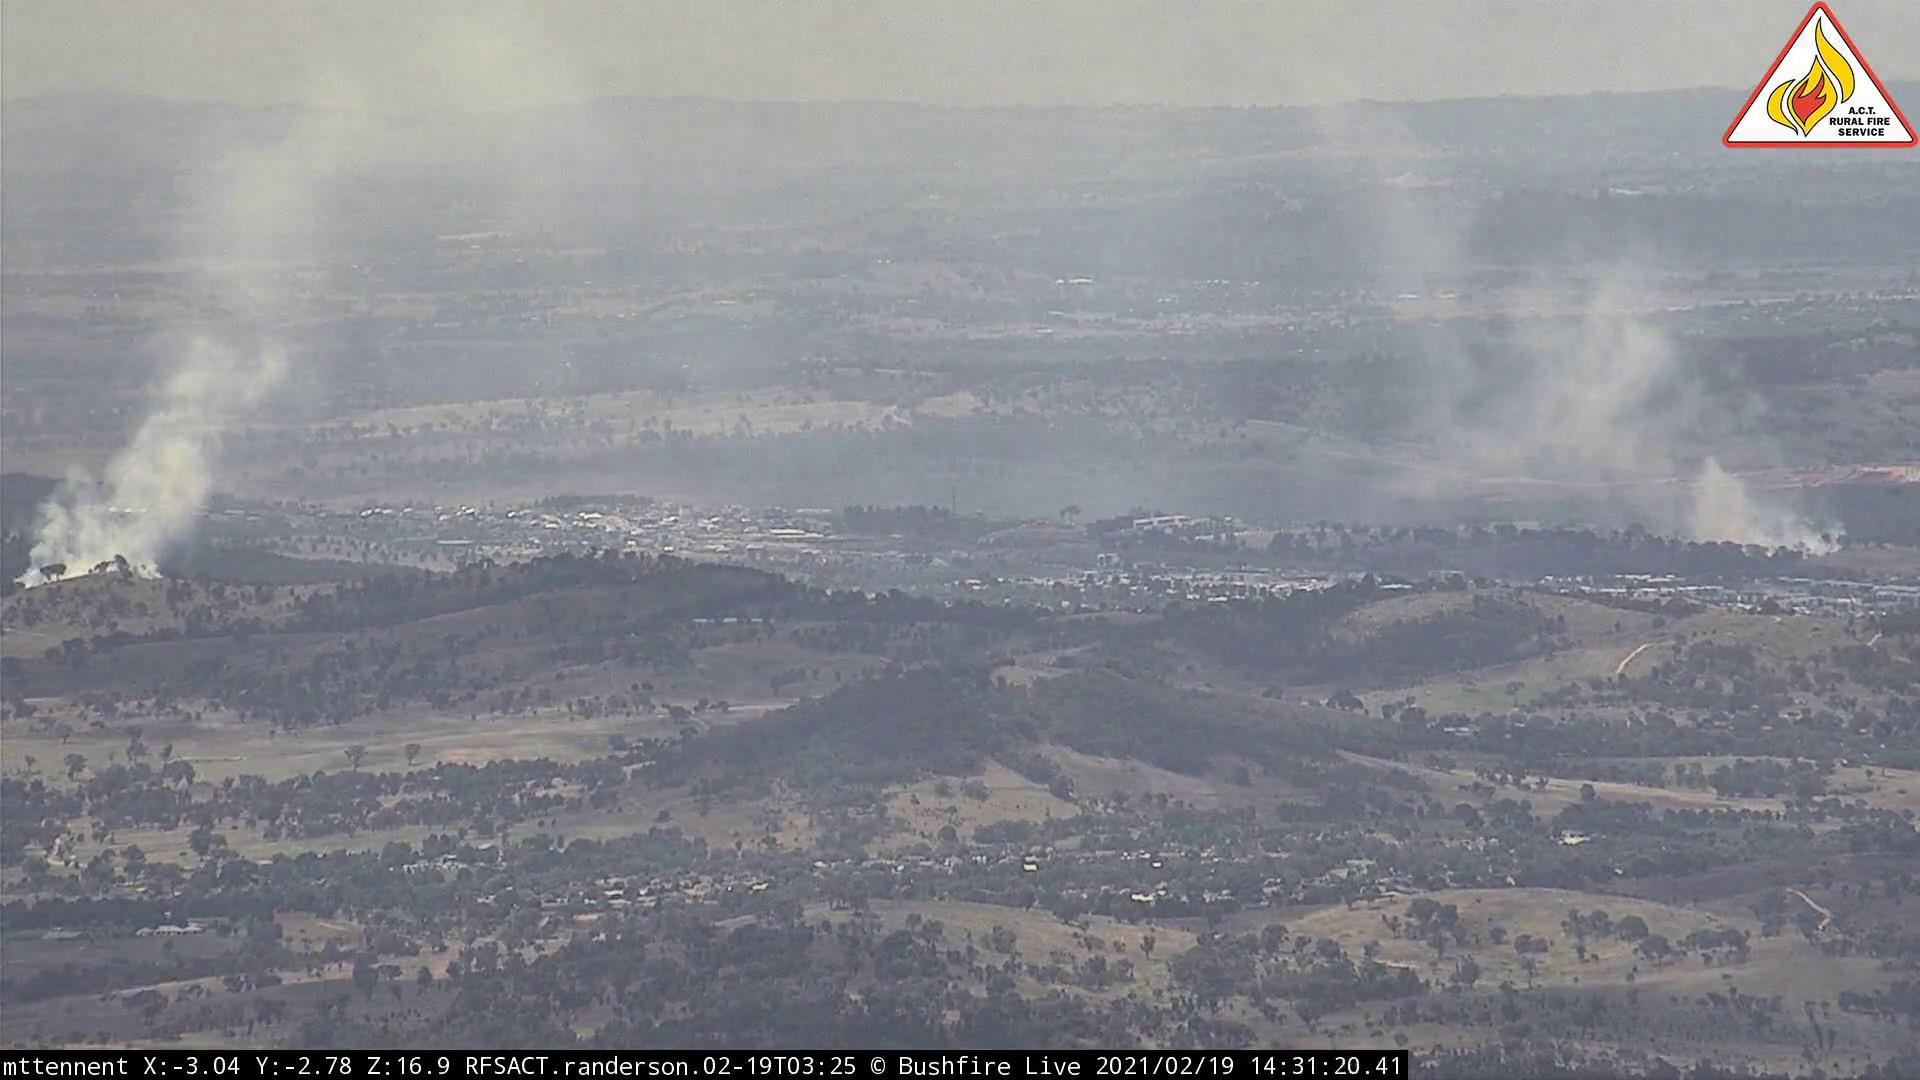Smoke: (1337, 175, 1873, 572), (22, 99, 417, 597)
